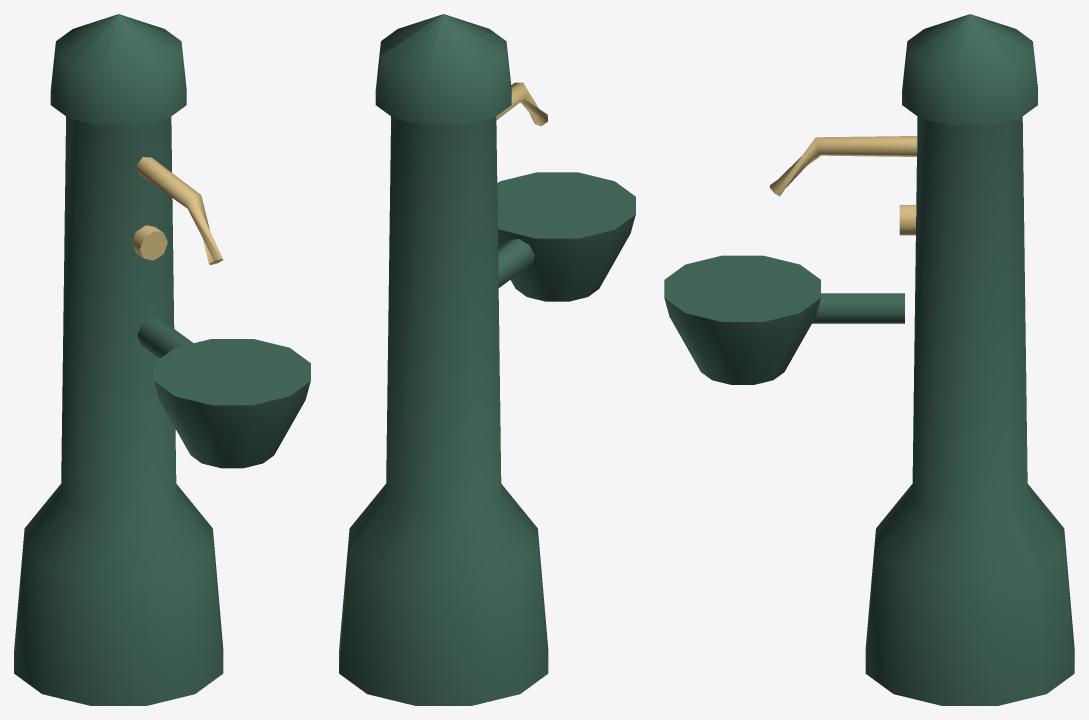
Rendered from drinking-fountain.glb.
The picture shows the model from 3 angles, left to right: view 1: azimuth 30°, elevation 25°; view 2: azimuth 150°, elevation 25°; view 3: azimuth 270°, elevation 25°; orthographic projection.
Visible parts, largest first — view 1: drinking-fountain; view 2: drinking-fountain; view 3: drinking-fountain.
Boxes of the visible parts, left/top/right/bottom form: drinking-fountain: left=14, top=14, right=310, bottom=705; drinking-fountain: left=339, top=14, right=635, bottom=705; drinking-fountain: left=664, top=14, right=1074, bottom=705.
Size of the model in its own units: 0.3864 by 1.32 by 0.7581.
